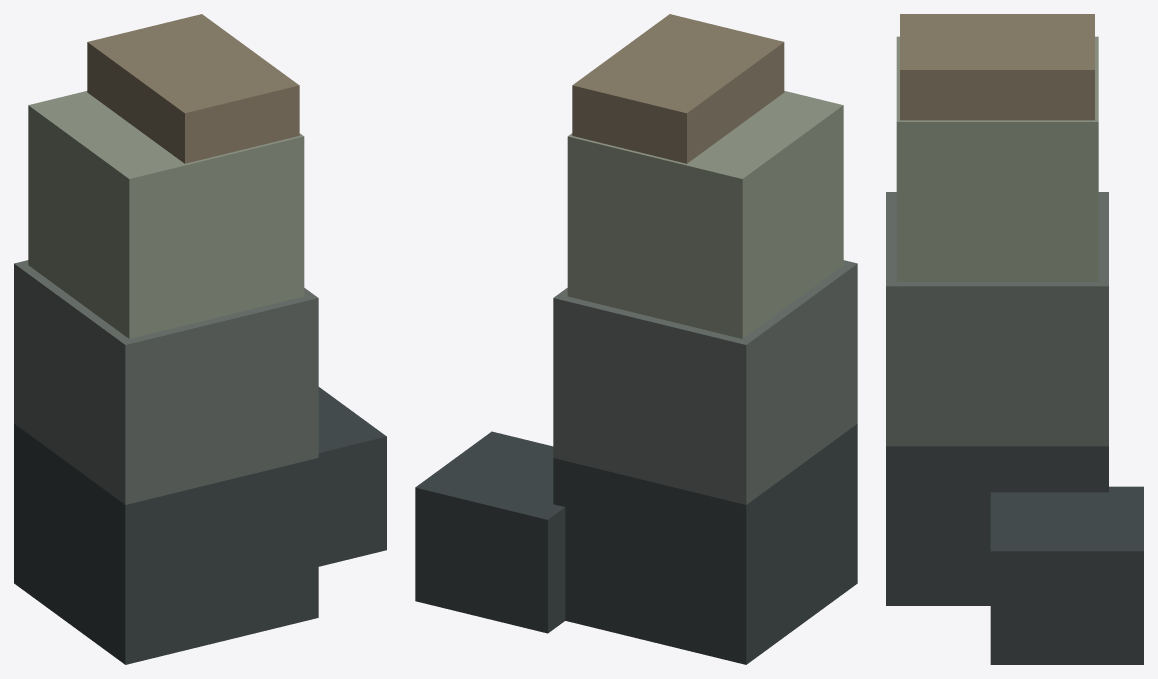
The model's file is TW_STONE_END_RUIN_A_LOD0.glb.
3 renders of one model, left to right at view 1: azimuth 30°, elevation 25°; view 2: azimuth 150°, elevation 25°; view 3: azimuth 270°, elevation 25°, orthographic.
Visible parts, largest first — view 1: TW_STONE_END_RUIN_A_LOD0; view 2: TW_STONE_END_RUIN_A_LOD0; view 3: TW_STONE_END_RUIN_A_LOD0.
Part boxes in pixels (box(x1,y1,x2,y2)): TW_STONE_END_RUIN_A_LOD0: box(14, 14, 386, 664); TW_STONE_END_RUIN_A_LOD0: box(415, 14, 857, 664); TW_STONE_END_RUIN_A_LOD0: box(886, 14, 1143, 664).
Bounding box in the file's own units: 0.52 × 0.84 × 0.37.
1 material, 1 textured.
